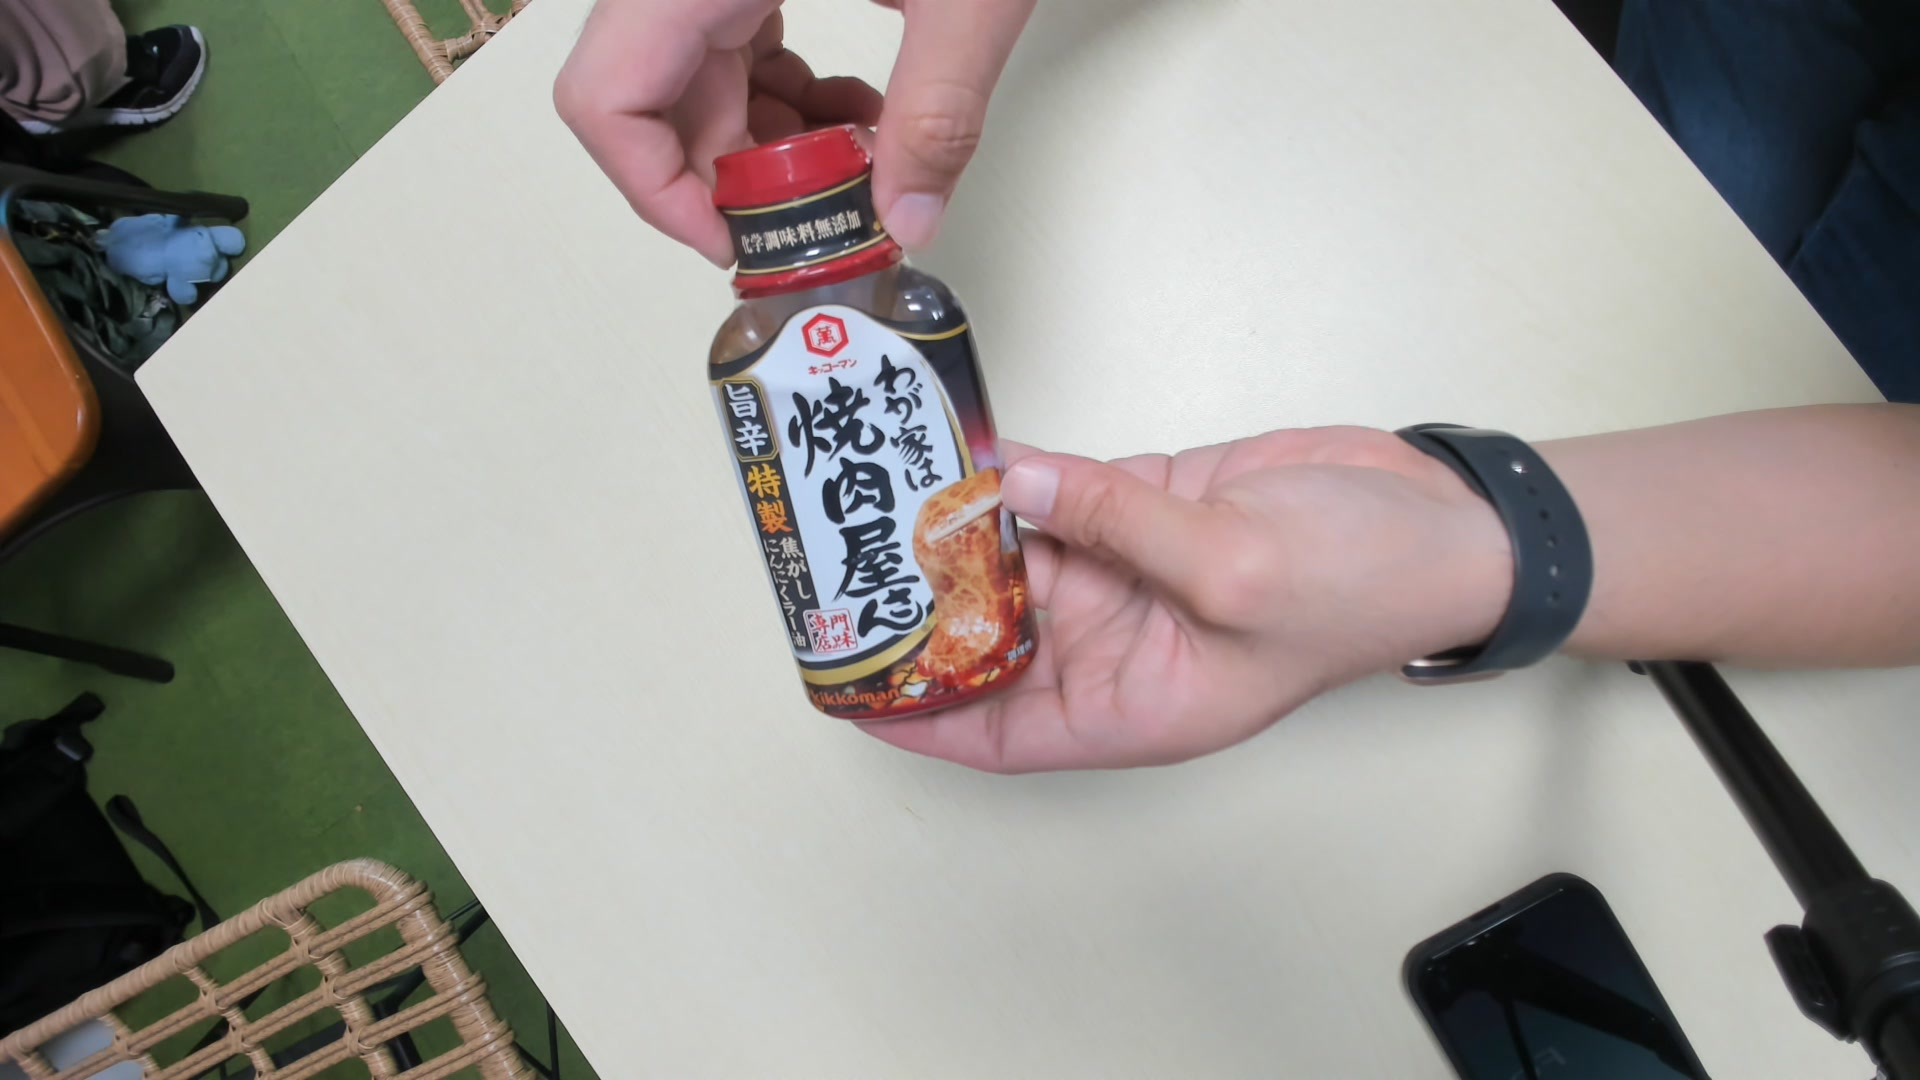OtherSauceDressing_200-299g_NonHalal_NonHealthy: (698, 121, 1046, 727)
